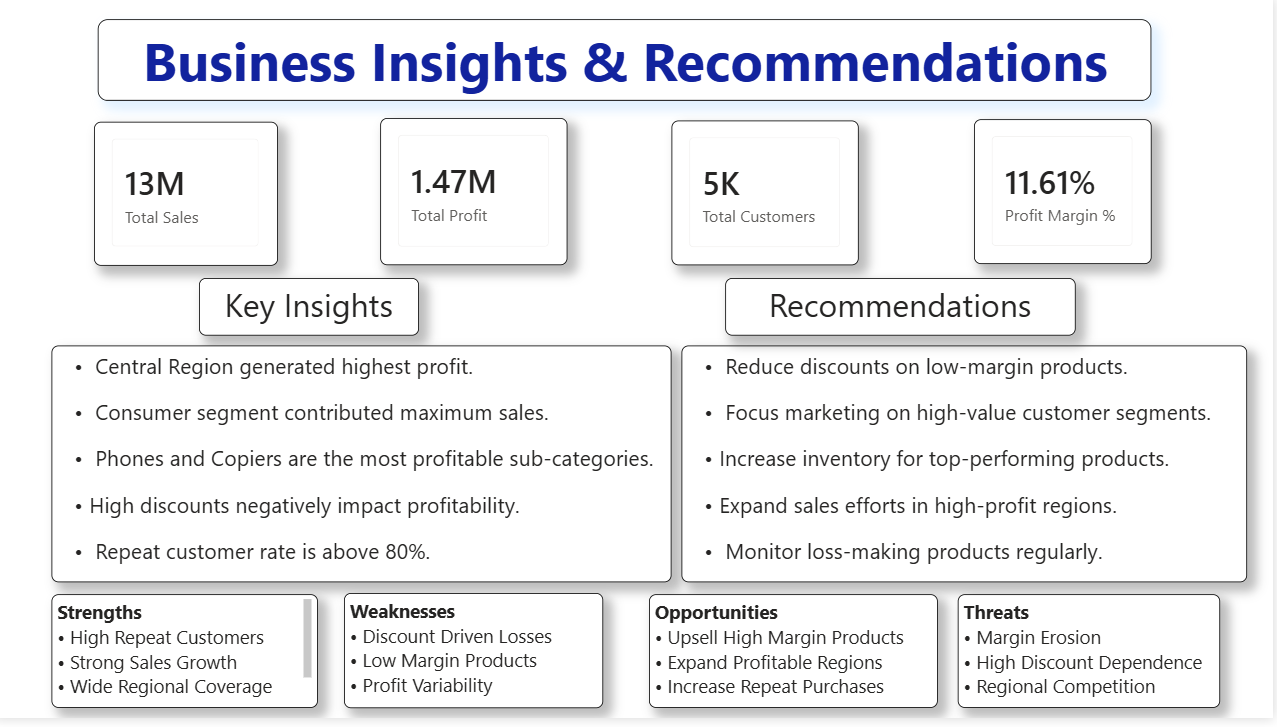

Layout of this report page (visuals, bound fields, positions):
{"tool":"powerbi","page":{"name":"Business Insights & Recommendations","canvas":[1280,720],"ordinal":7},"visuals":[{"type":"cardVisual","fields":{"Data":["superstore.Total Sales"]},"box":[100,123.8,183.8,143.8],"z":0},{"type":"cardVisual","fields":{"Data":["superstore.Total Profit"]},"box":[386.2,120,187.5,147.5],"z":1000},{"type":"cardVisual","fields":{"Data":["superstore.Total Customers"]},"box":[677.5,122.5,187.5,145],"z":2000},{"type":"cardVisual","fields":{"Data":["superstore.Profit Margin %"]},"box":[980,121.2,177.5,145],"z":3000},{"type":"textbox","box":[205,280,220,57.5],"z":4000},{"type":"textbox","box":[57.4,347.3,620.4,236.7],"z":5000},{"type":"textbox","box":[687.6,347.3,565.8,236.7],"z":6000},{"type":"textbox","box":[731.2,280,350,57.5],"z":7000},{"type":"textbox","box":[57.5,595.8,266.4,113.6],"z":8000},{"type":"textbox","box":[350.5,594.4,259.4,115],"z":9000},{"type":"textbox","box":[654.7,595.8,288.8,113.6],"z":10000},{"type":"textbox","box":[963.2,595.8,262.2,113.6],"z":11000},{"type":"textbox","title":"Business Insights & Recommendations","box":[103.8,21.2,1053.8,81.2],"z":12000}]}

Visuals, with their boxes in screenshot pixels (x1, y1, x2, y2), scaled from the page's 1280x720 canvas onto the 1277x727 screenshot:
cardVisual - superstore.Total Sales: bbox=[100, 125, 283, 270]
cardVisual - superstore.Total Profit: bbox=[385, 121, 572, 270]
cardVisual - superstore.Total Customers: bbox=[676, 124, 863, 270]
cardVisual - superstore.Profit Margin %: bbox=[978, 122, 1155, 269]
textbox: bbox=[205, 283, 424, 341]
textbox: bbox=[57, 351, 676, 590]
textbox: bbox=[686, 351, 1250, 590]
textbox: bbox=[729, 283, 1079, 341]
textbox: bbox=[57, 602, 323, 716]
textbox: bbox=[350, 600, 608, 716]
textbox: bbox=[653, 602, 941, 716]
textbox: bbox=[961, 602, 1223, 716]
"Business Insights & Recommendations" textbox: bbox=[104, 21, 1155, 103]
